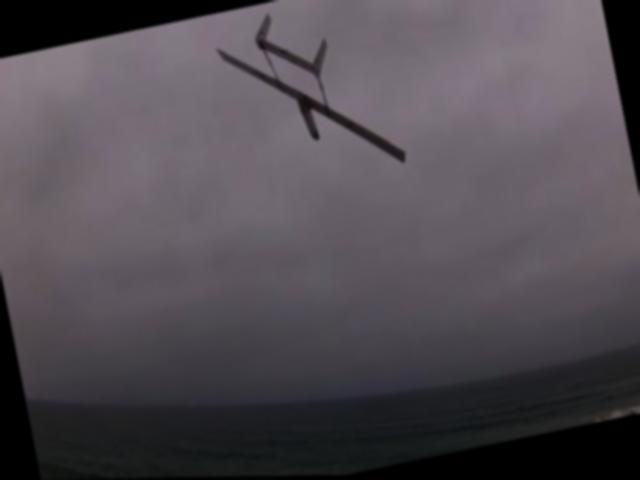uav: (201, 0, 413, 206)
